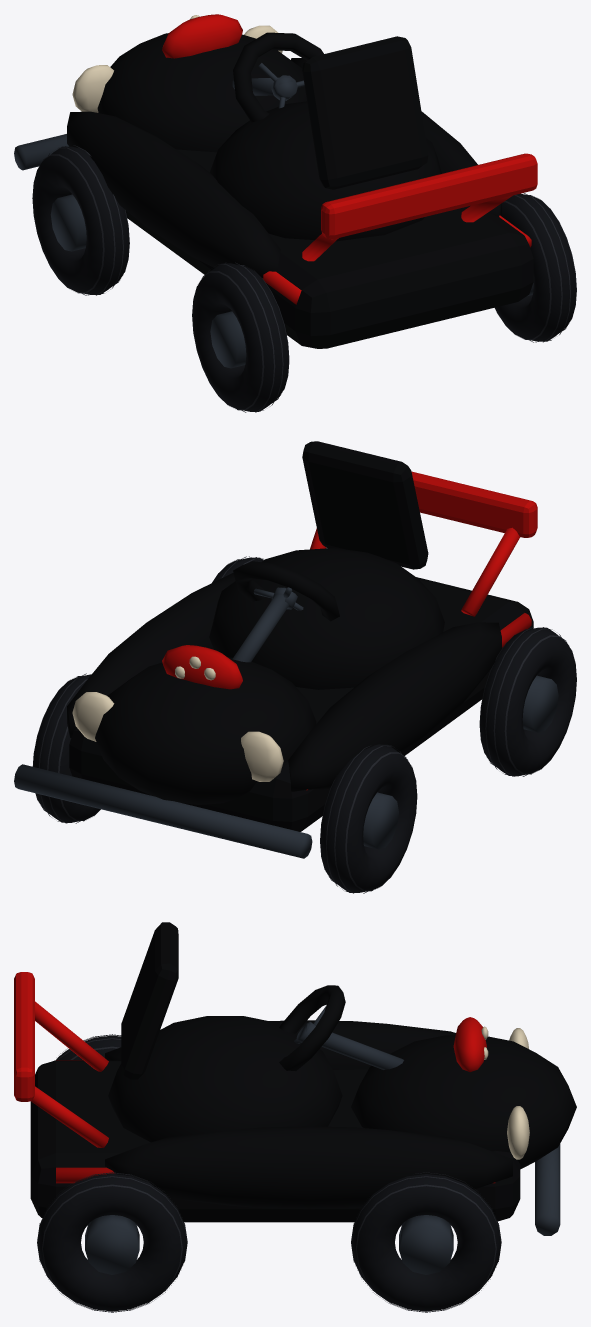
The model's file is guatam-kart.glb.
3 renders of one model, top to bottom at view 1: azimuth 30°, elevation 25°; view 2: azimuth 150°, elevation 25°; view 3: azimuth 270°, elevation 25°, orthographic.
Visible parts, largest first — view 1: GEO_guatam_kart_chassis, GEO_guatam_kart_WHEEL_RL, GEO_guatam_kart_WHEEL_FL, GEO_guatam_kart_WHEEL_RR, GEO_guatam_kart_steering; view 2: GEO_guatam_kart_chassis, GEO_guatam_kart_WHEEL_RL, GEO_guatam_kart_WHEEL_FL, GEO_guatam_kart_WHEEL_FR, GEO_guatam_kart_steering; view 3: GEO_guatam_kart_chassis, GEO_guatam_kart_WHEEL_RR, GEO_guatam_kart_WHEEL_FR, GEO_guatam_kart_steering, GEO_guatam_kart_WHEEL_RL.
Part boxes in pixels (x1=…): GEO_guatam_kart_chassis: x1=14, y1=14, x2=537, y2=348; GEO_guatam_kart_WHEEL_RL: x1=192, y1=262, x2=289, y2=412; GEO_guatam_kart_WHEEL_FL: x1=32, y1=145, x2=129, y2=295; GEO_guatam_kart_WHEEL_RR: x1=495, y1=193, x2=576, y2=342; GEO_guatam_kart_steering: x1=233, y1=32, x2=323, y2=122; GEO_guatam_kart_chassis: x1=14, y1=441, x2=537, y2=858; GEO_guatam_kart_WHEEL_RL: x1=479, y1=627, x2=576, y2=776; GEO_guatam_kart_WHEEL_FL: x1=320, y1=744, x2=417, y2=893; GEO_guatam_kart_WHEEL_FR: x1=32, y1=673, x2=100, y2=823; GEO_guatam_kart_steering: x1=233, y1=561, x2=339, y2=621; GEO_guatam_kart_chassis: x1=14, y1=922, x2=576, y2=1235; GEO_guatam_kart_WHEEL_RR: x1=37, y1=1172, x2=187, y2=1312; GEO_guatam_kart_WHEEL_FR: x1=351, y1=1172, x2=501, y2=1312; GEO_guatam_kart_steering: x1=279, y1=985, x2=345, y2=1071; GEO_guatam_kart_WHEEL_RL: x1=54, y1=1034, x2=121, y2=1060.
Bounding box in the file's own units: 1.77 × 1.57 × 2.69.
